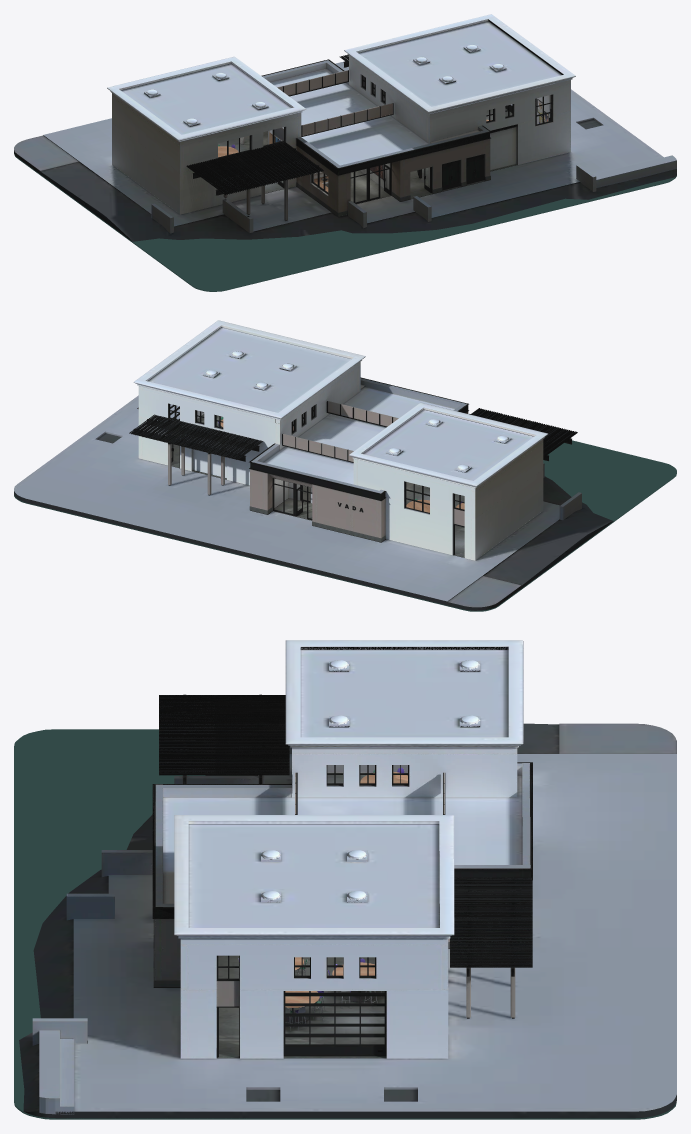
The model's file is Exhibition.glb.
3 views of the same model, one above another, from view 1: azimuth 30°, elevation 25°; view 2: azimuth 150°, elevation 25°; view 3: azimuth 270°, elevation 25° (orthographic). The views are drawn at different scales.
Visible parts, largest first — view 1: base_Material #32290_0, roof_Material #32278_0, base bottom_Material #32289_0, walls_B_Material #32280_0, walls_A_Material #32281_0, walls_C_Material #32270_0, roofrack_B_Material #32282_0, concrete_Material #32275_0, structural_Material #32273_0, floor_Material #32287_0, windowframes_Material #32279_0, doors_Material #32272_0 (+1 smaller); view 2: base_Material #32290_0, roof_Material #32278_0, walls_A_Material #32281_0, walls_C_Material #32270_0, walls_B_Material #32280_0, base bottom_Material #32289_0, roofrack_B_Material #32282_0, structural_Material #32273_0, windowframes_Material #32279_0, floor_Material #32287_0, ceiling props_Material #32277_0; view 3: base_Material #32290_0, roof_Material #32278_0, base bottom_Material #32289_0, walls_B_Material #32280_0, roofrack_B_Material #32282_0, walls_A_Material #32281_0, concrete_Material #32275_0, floor_Material #32287_0, windowframes_Material #32279_0, walls_C_Material #32270_0, structural_Material #32273_0, ceiling props_Material #32277_0 (+1 smaller).
Boxes of the visible parts, <box> form: base_Material #32290_0: <box>14,61,676,241</box>; roof_Material #32278_0: <box>107,14,575,165</box>; base bottom_Material #32289_0: <box>14,153,676,291</box>; walls_B_Material #32280_0: <box>349,21,570,201</box>; walls_A_Material #32281_0: <box>112,63,301,214</box>; walls_C_Material #32270_0: <box>262,55,489,216</box>; roofrack_B_Material #32282_0: <box>186,54,348,195</box>; concrete_Material #32275_0: <box>151,155,676,233</box>; structural_Material #32273_0: <box>193,59,517,220</box>; floor_Material #32287_0: <box>218,108,517,217</box>; windowframes_Material #32279_0: <box>218,70,552,203</box>; doors_Material #32272_0: <box>277,117,551,195</box>; base_Material #32290_0: <box>14,395,613,610</box>; roof_Material #32278_0: <box>133,320,548,488</box>; walls_A_Material #32281_0: <box>353,409,543,560</box>; walls_C_Material #32270_0: <box>249,363,468,542</box>; walls_B_Material #32280_0: <box>138,327,360,485</box>; base bottom_Material #32289_0: <box>14,440,676,611</box>; roofrack_B_Material #32282_0: <box>129,408,577,459</box>; structural_Material #32273_0: <box>133,377,571,500</box>; windowframes_Material #32279_0: <box>169,401,464,554</box>; floor_Material #32287_0: <box>171,414,464,557</box>; ceiling props_Material #32277_0: <box>203,350,511,472</box>; base_Material #32290_0: <box>19,723,676,1118</box>; roof_Material #32278_0: <box>163,640,523,938</box>; base bottom_Material #32289_0: <box>14,729,676,1119</box>; walls_B_Material #32280_0: <box>153,849,448,1058</box>; roofrack_B_Material #32282_0: <box>159,695,532,967</box>; walls_A_Material #32281_0: <box>292,649,517,797</box>; concrete_Material #32275_0: <box>32,746,291,1114</box>; floor_Material #32287_0: <box>153,773,449,1058</box>; windowframes_Material #32279_0: <box>217,765,445,1057</box>; walls_C_Material #32270_0: <box>154,763,531,948</box>; structural_Material #32273_0: <box>152,694,532,1018</box>; ceiling props_Material #32277_0: <box>163,660,480,903</box>.
Size of the model in its own units: 40.69 by 6.7 by 29.33.
21 materials, 21 textured.
